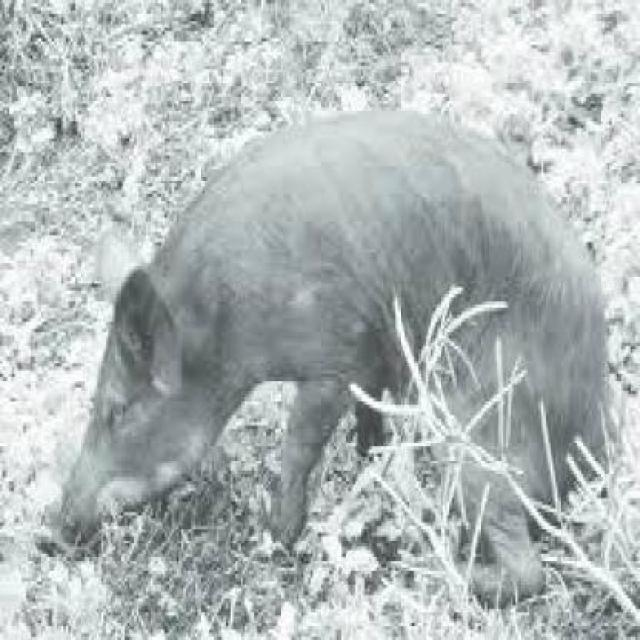wildboar: (46, 95, 612, 597)
